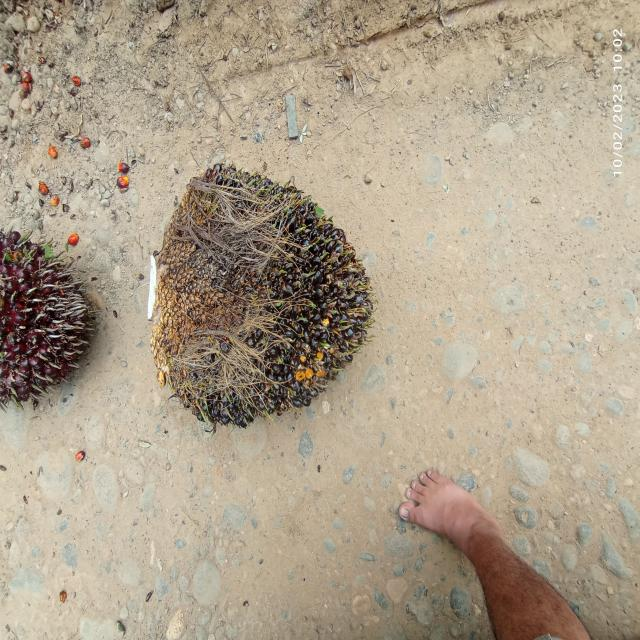fraksi 00: (114, 111, 395, 467)
